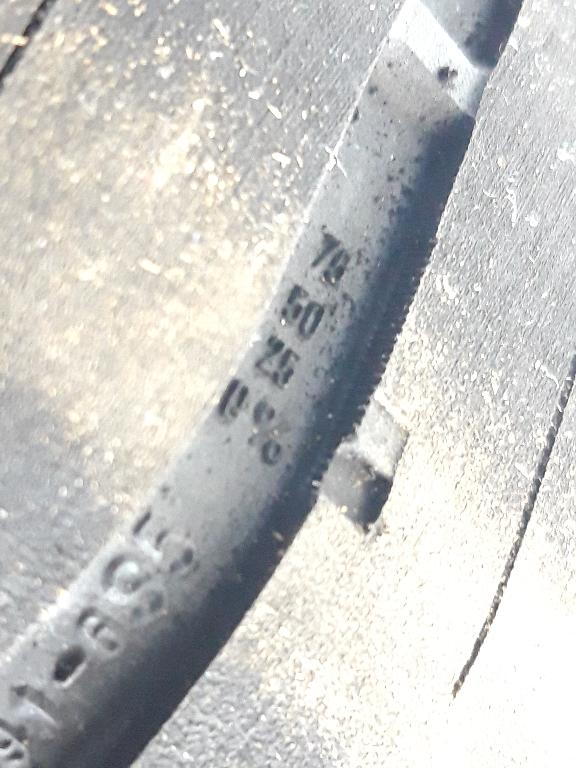temoin:25: (274, 371, 430, 562)
